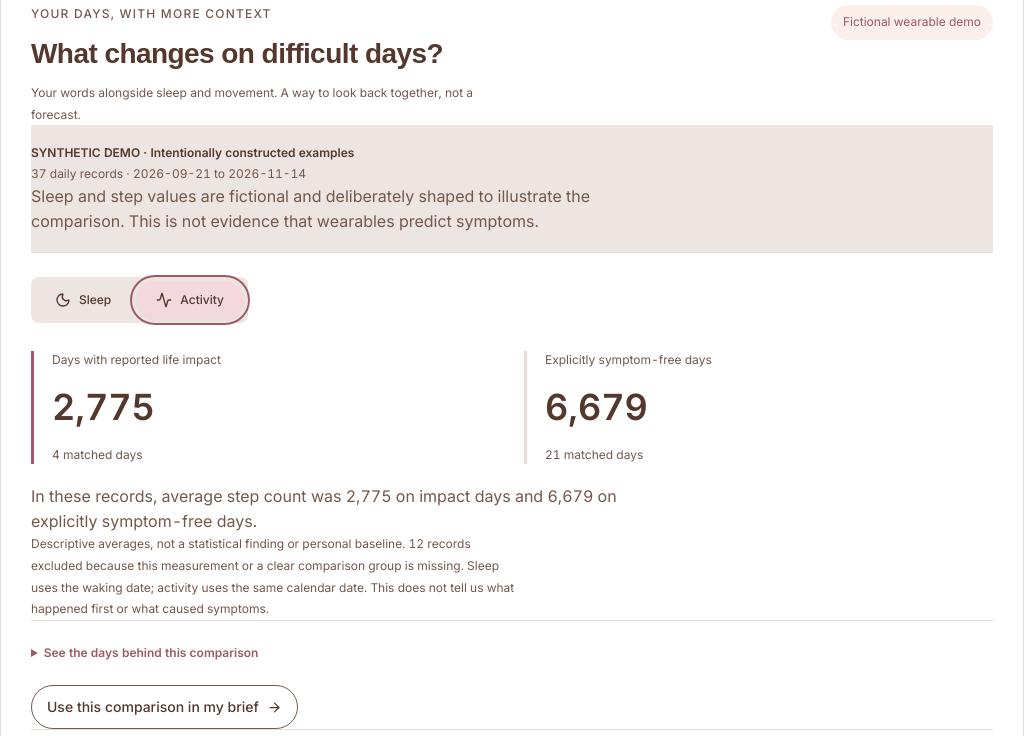
Test case: shows a constructed comparison, opens source entries, and adds a labeled takeaway
Earlier steps of the test are not shown.
Click the button "Use this comparison in my brief". click: coordinates (164, 707)
box: left=31, top=685, right=298, bottom=729
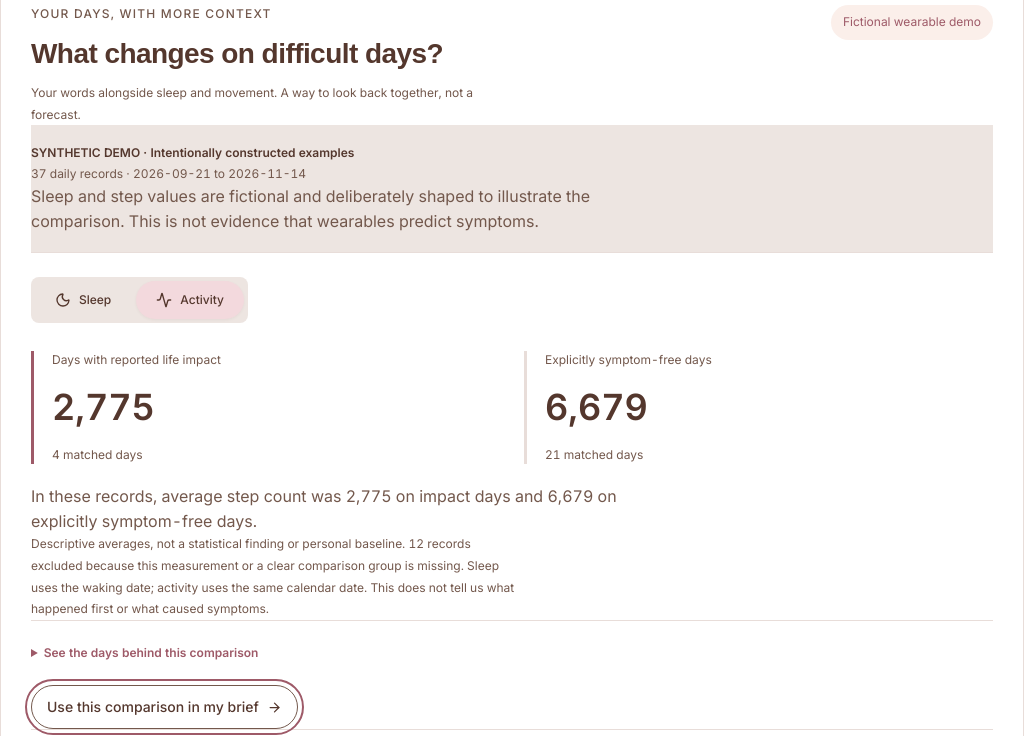
Click the heading "See the days behind this comparison". click: coordinates (151, 652)
box: left=44, top=645, right=258, bottom=660
(page scrolled)
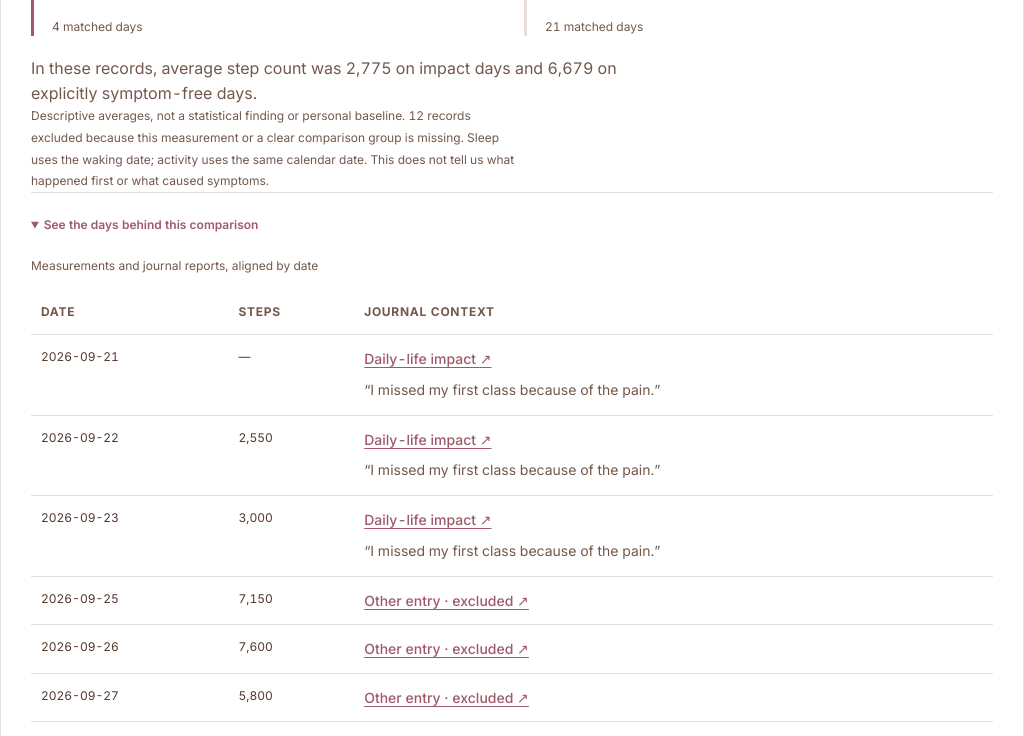
Click the 1st button "Daily-life impact ↗". click: coordinates (428, 359)
box: left=364, top=348, right=492, bottom=370
(page scrolled)
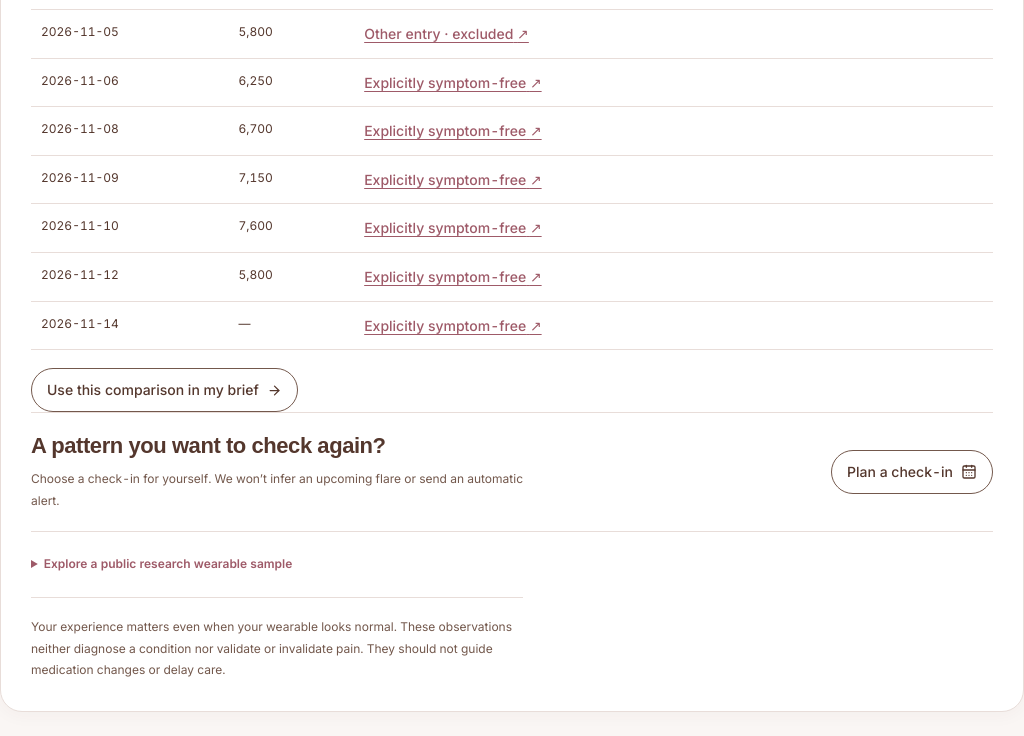
Click the button "Plan a check-in". click: coordinates (912, 472)
box: left=831, top=450, right=993, bottom=494
(page scrolled)
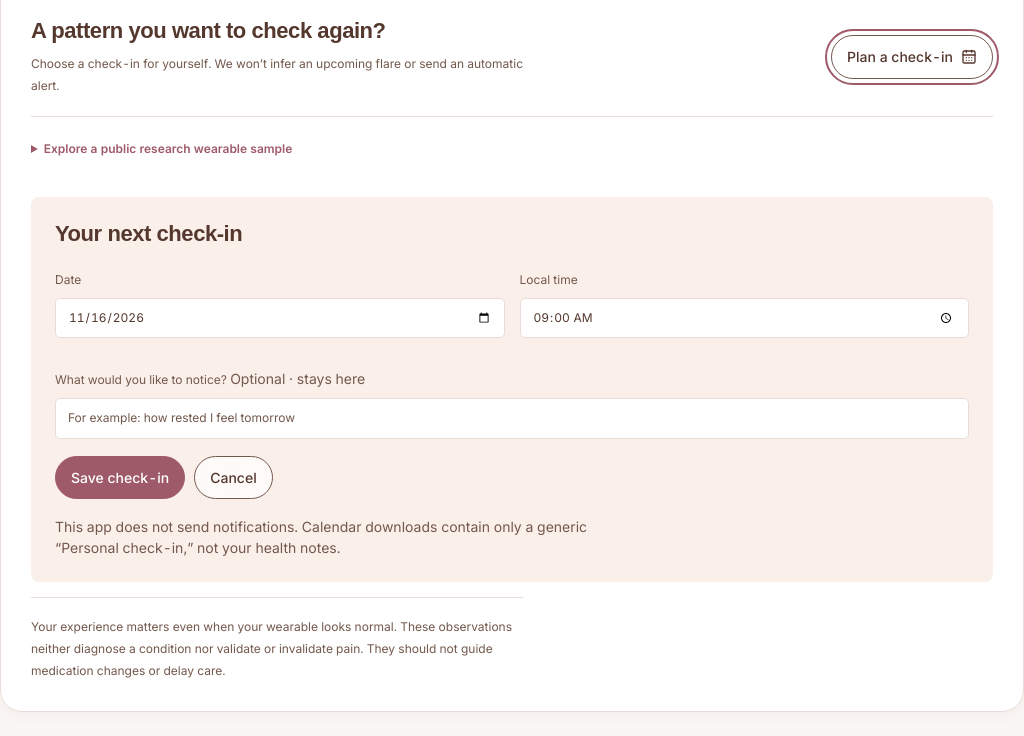
Type "How rested I feel" into the field labelled "What would you like to notice? Optional · stays here". click: coordinates (512, 418)
box: left=55, top=398, right=969, bottom=439
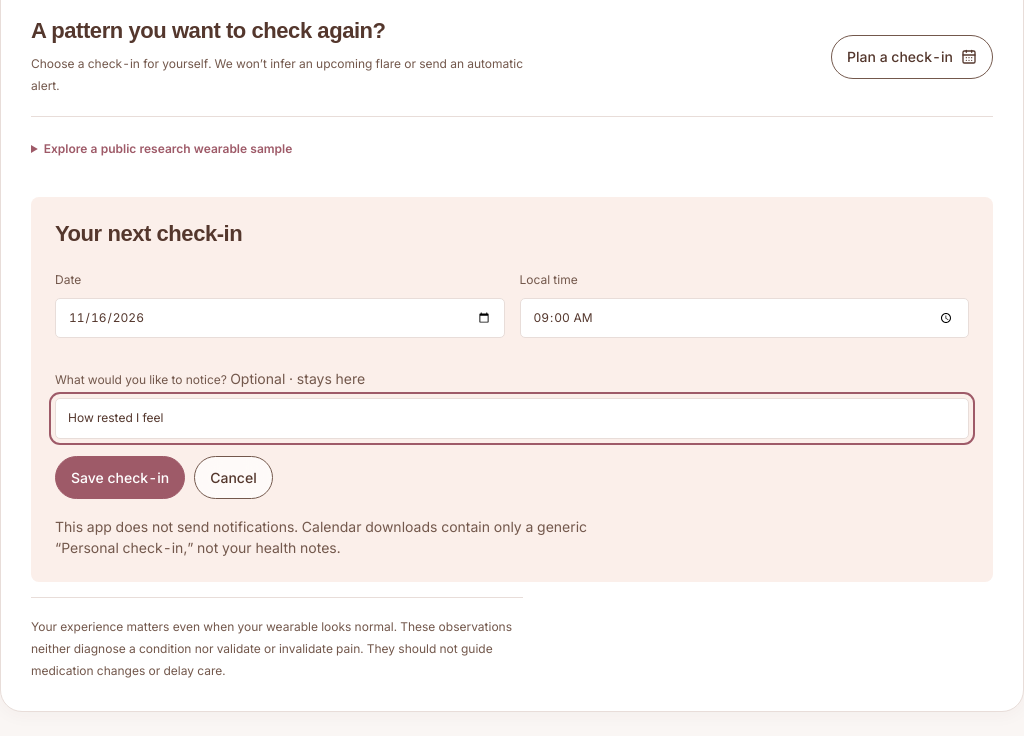
Click the button "Save check-in". click: coordinates (120, 478)
box: left=55, top=456, right=185, bottom=499
(page scrolled)
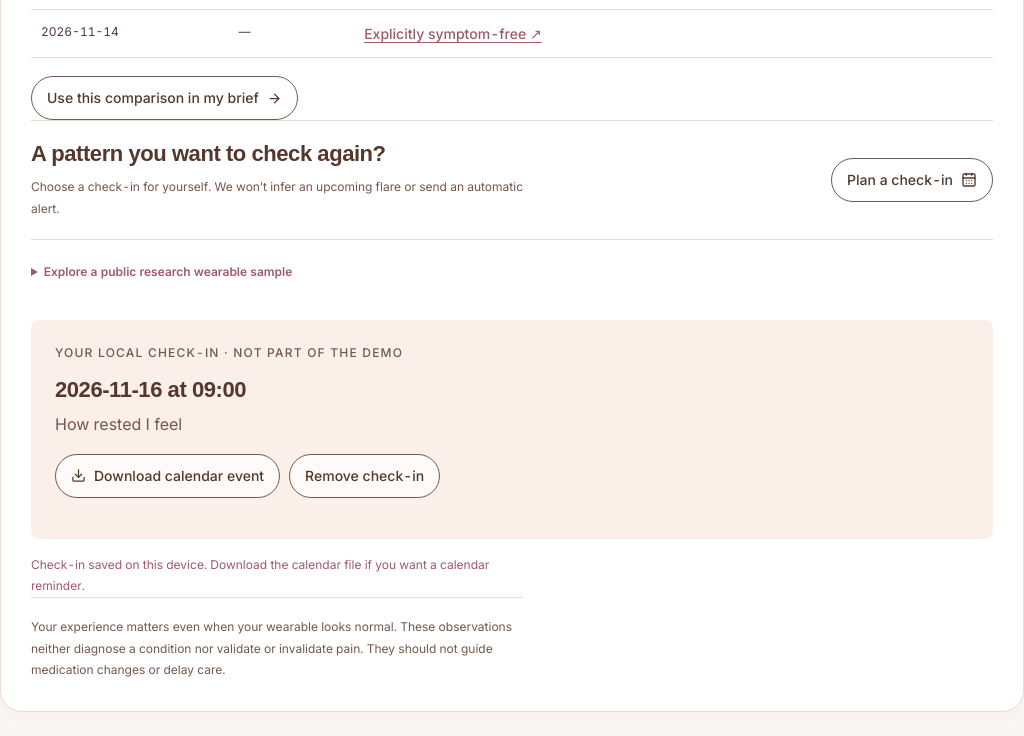
Check: the text "Check-in saved on this device" is shown, box left=31, top=557, right=489, bottom=593
Check: the text "How rested I feel" is shown, box left=55, top=414, right=182, bottom=434
